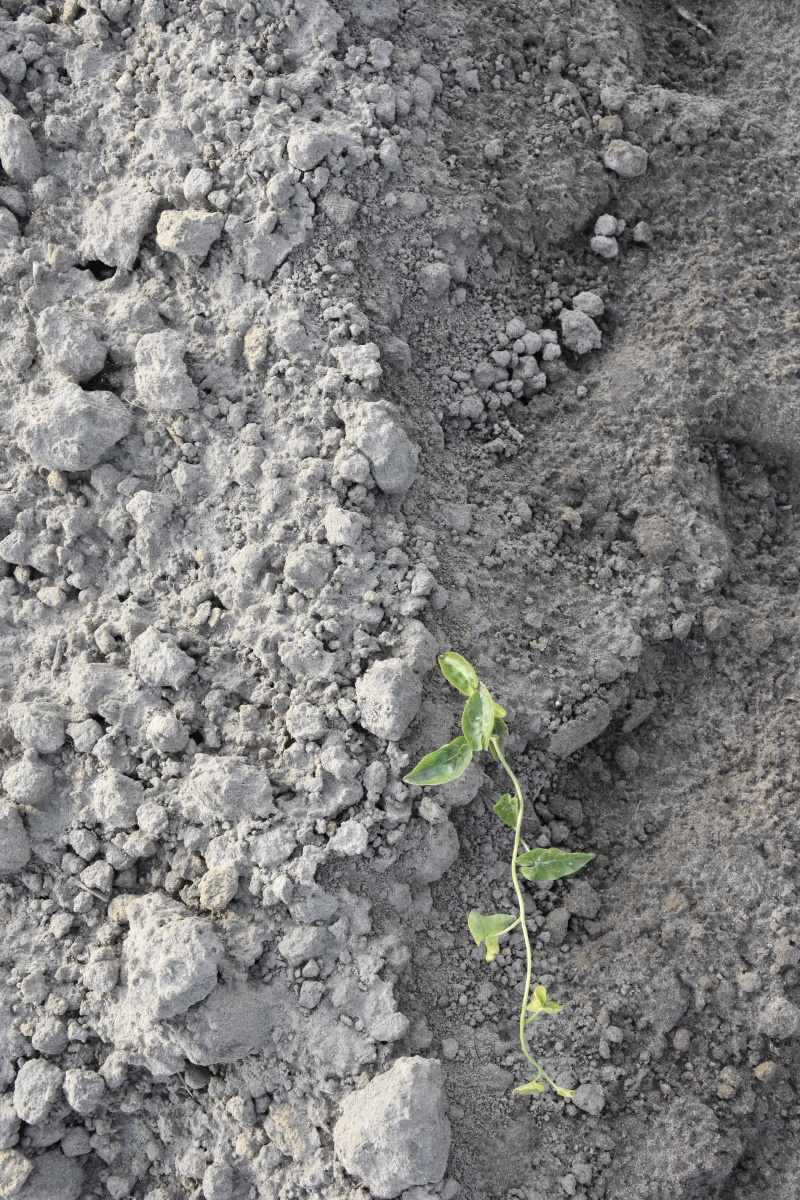field bindweed: (414, 652, 598, 1124)
